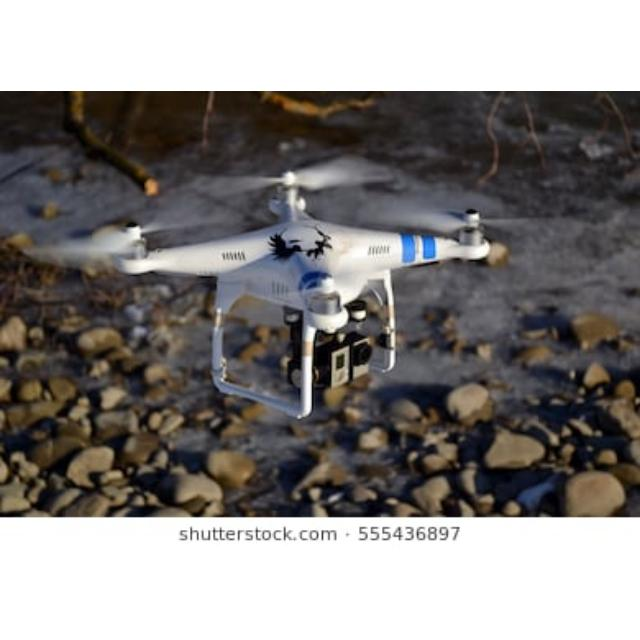Drones: (124, 190, 488, 408)
